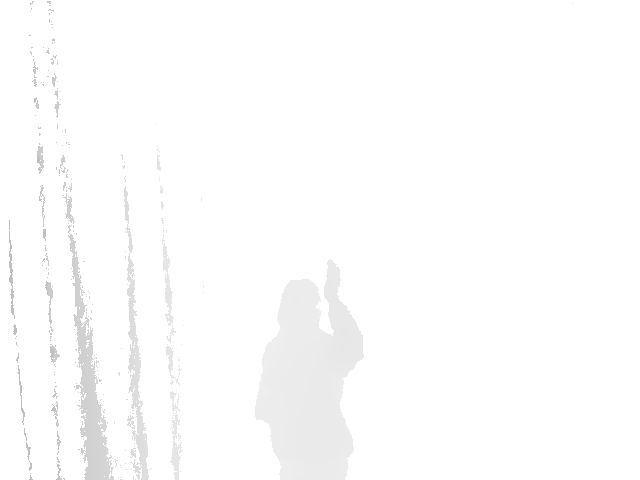hand: (321, 258, 341, 304)
head: (279, 278, 319, 337)
person: (253, 258, 363, 480)
